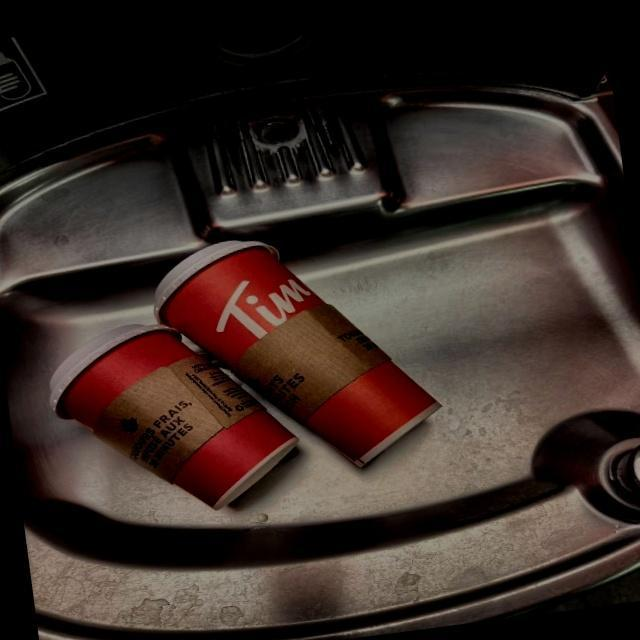timmies: (144, 214, 450, 480), (41, 302, 302, 515)
